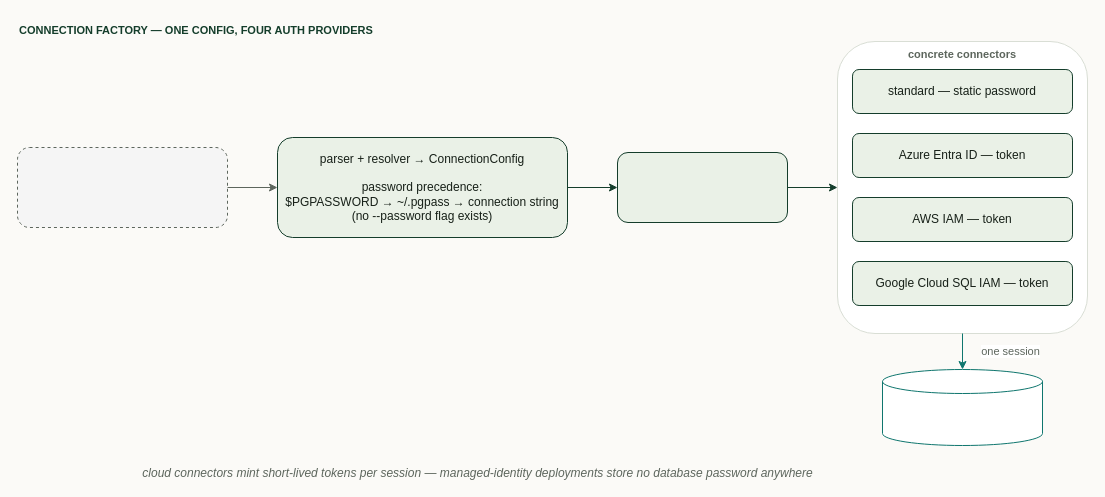
The diagram is 1105 pixels wide and 497 high, and some of its shapes have lost their labels. Each missing label, with the centre of its shape:
connection string · flags · pgmi.yaml · environment ($PGPASSWORD, AZURE_*, …): [122,187]
NewConnector factory on AuthMethod: [702,187]
PostgreSQL: [962,407]
